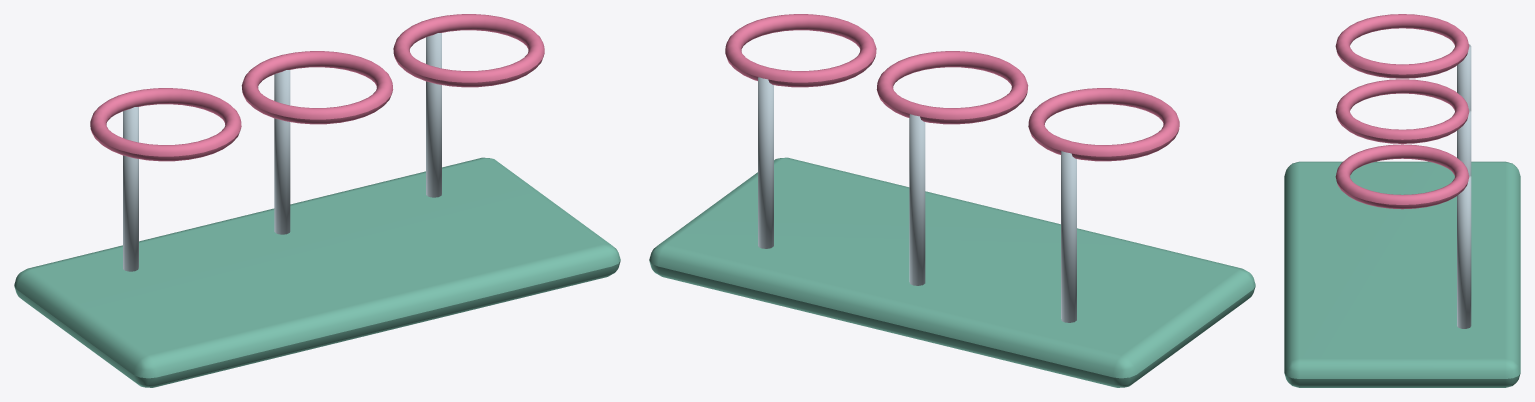
File: Three_cone_rack.fbx
3 views of the same model, side by side, from view 1: azimuth 30°, elevation 25°; view 2: azimuth 150°, elevation 25°; view 3: azimuth 270°, elevation 25° (orthographic). The views are drawn at different scales.
Parts seen in each view (by area): view 1: Toon_Three_cone_rack Rack base.001, Toon_Three_cone_rack Cone rack ring.005, Toon_Three_cone_rack Cone rack ring.003, Toon_Three_cone_rack Cone rack ring.004, Toon_Three_cone_rack Rack post.004, Toon_Three_cone_rack Rack post.005, Toon_Three_cone_rack Rack post.003; view 2: Toon_Three_cone_rack Rack base.001, Toon_Three_cone_rack Cone rack ring.003, Toon_Three_cone_rack Cone rack ring.005, Toon_Three_cone_rack Cone rack ring.004, Toon_Three_cone_rack Rack post.004, Toon_Three_cone_rack Rack post.003, Toon_Three_cone_rack Rack post.005; view 3: Toon_Three_cone_rack Rack base.001, Toon_Three_cone_rack Cone rack ring.003, Toon_Three_cone_rack Cone rack ring.004, Toon_Three_cone_rack Cone rack ring.005, Toon_Three_cone_rack Rack post.005, Toon_Three_cone_rack Rack post.004, Toon_Three_cone_rack Rack post.003.
Part boxes in pixels (bbox=[...]): Toon_Three_cone_rack Rack base.001: bbox=[14, 157, 620, 387]; Toon_Three_cone_rack Cone rack ring.005: bbox=[393, 14, 544, 87]; Toon_Three_cone_rack Cone rack ring.003: bbox=[90, 88, 241, 161]; Toon_Three_cone_rack Cone rack ring.004: bbox=[241, 51, 393, 124]; Toon_Three_cone_rack Rack post.004: bbox=[274, 70, 290, 234]; Toon_Three_cone_rack Rack post.005: bbox=[426, 33, 441, 197]; Toon_Three_cone_rack Rack post.003: bbox=[123, 107, 138, 271]; Toon_Three_cone_rack Rack base.001: bbox=[649, 157, 1255, 387]; Toon_Three_cone_rack Cone rack ring.003: bbox=[1028, 88, 1179, 161]; Toon_Three_cone_rack Cone rack ring.005: bbox=[725, 14, 876, 87]; Toon_Three_cone_rack Cone rack ring.004: bbox=[876, 51, 1028, 124]; Toon_Three_cone_rack Rack post.004: bbox=[909, 114, 925, 285]; Toon_Three_cone_rack Rack post.003: bbox=[1061, 151, 1076, 322]; Toon_Three_cone_rack Rack post.005: bbox=[758, 77, 773, 248]; Toon_Three_cone_rack Rack base.001: bbox=[1284, 161, 1520, 387]; Toon_Three_cone_rack Cone rack ring.003: bbox=[1335, 14, 1469, 78]; Toon_Three_cone_rack Cone rack ring.004: bbox=[1335, 79, 1469, 143]; Toon_Three_cone_rack Cone rack ring.005: bbox=[1335, 144, 1469, 209]; Toon_Three_cone_rack Rack post.005: bbox=[1457, 175, 1471, 328]; Toon_Three_cone_rack Rack post.004: bbox=[1457, 109, 1471, 175]; Toon_Three_cone_rack Rack post.003: bbox=[1457, 44, 1471, 110].
Bounding box in the file's own units: 48 × 19.7 × 23.
